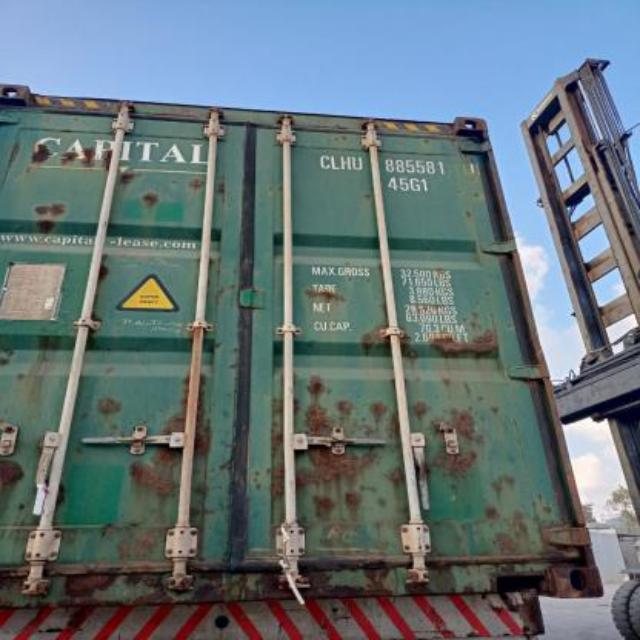1: (436, 156, 449, 180), (464, 156, 478, 174)
5: (406, 156, 416, 180), (414, 156, 426, 176)
8: (396, 157, 406, 177), (383, 157, 393, 175), (426, 154, 434, 176)
C: (314, 152, 332, 172)
H: (341, 150, 353, 177)
L: (330, 152, 340, 172)
U: (350, 155, 366, 175)
